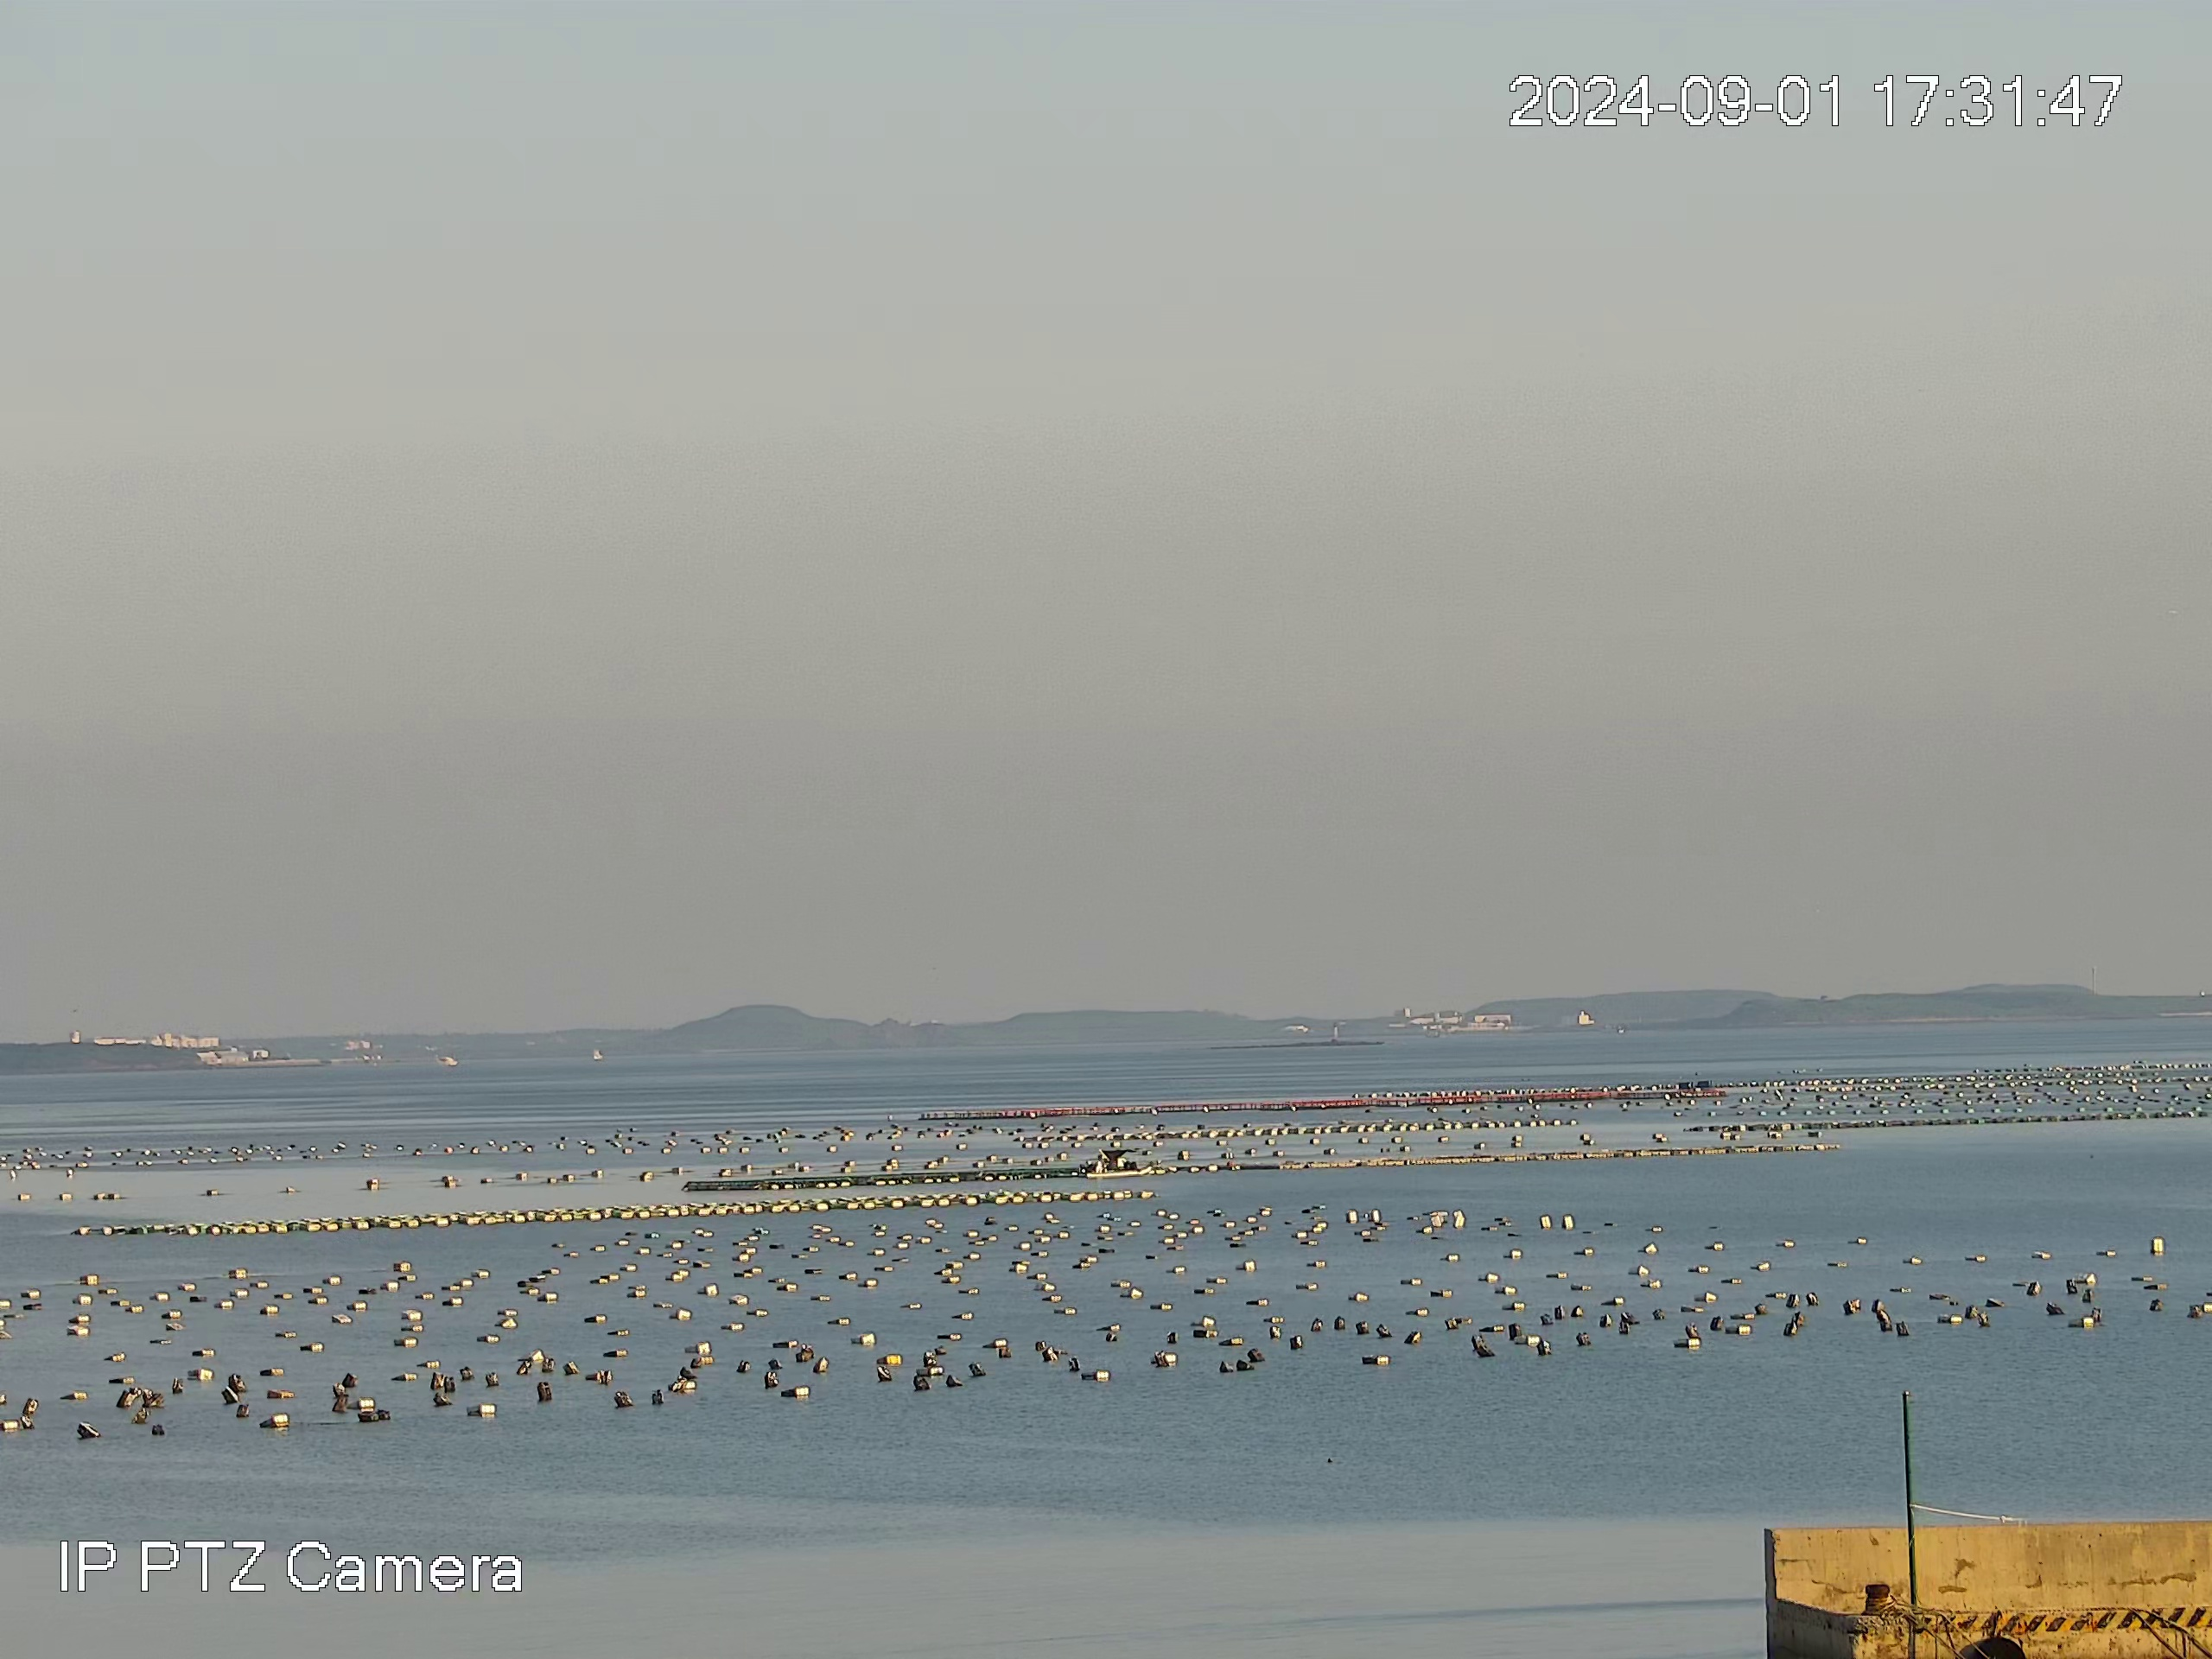boat: (1090, 1147, 1150, 1180)
